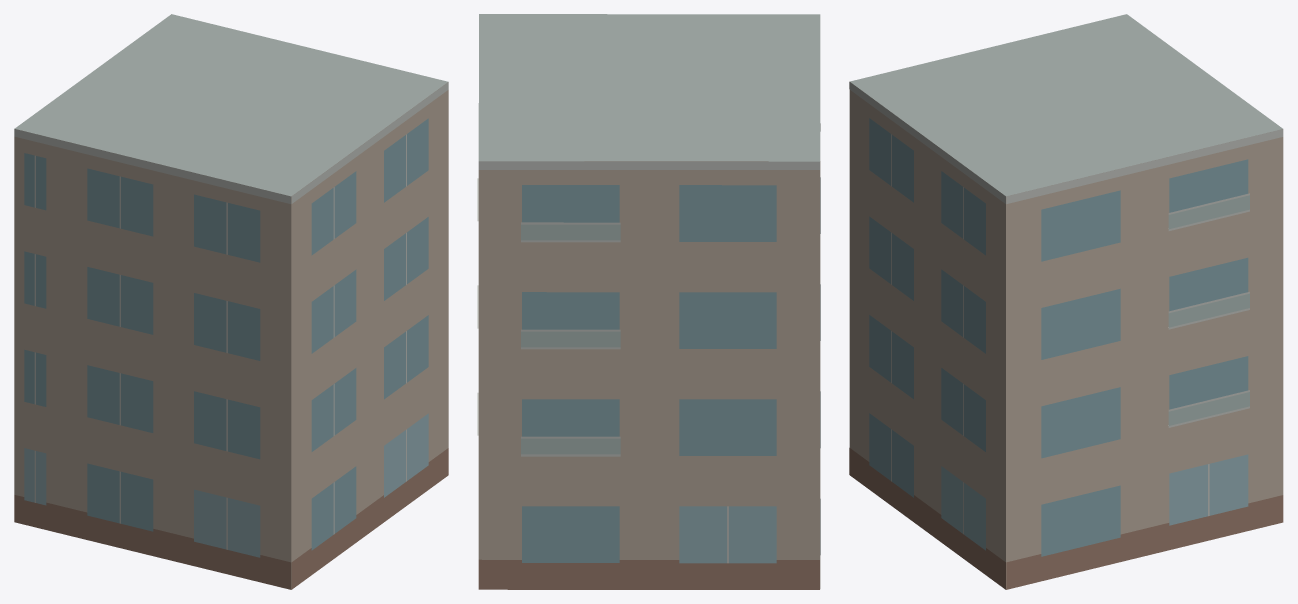
The model's file is residential-4be58dc1-8498-4aa6-a9bd-97a0ed2d02df.glb.
3 views of the same model, side by side, from view 1: azimuth 30°, elevation 25°; view 2: azimuth 150°, elevation 25°; view 3: azimuth 270°, elevation 25° (orthographic). The views are drawn at different scales.
Visible parts, largest first — view 1: residential-4be58dc1-8498-4aa6-a9bd-97a0ed2d02df.tmp; view 2: residential-4be58dc1-8498-4aa6-a9bd-97a0ed2d02df.tmp; view 3: residential-4be58dc1-8498-4aa6-a9bd-97a0ed2d02df.tmp.
Part boxes in pixels (x1,y1,x2,y2): residential-4be58dc1-8498-4aa6-a9bd-97a0ed2d02df.tmp: [14, 14, 448, 589]; residential-4be58dc1-8498-4aa6-a9bd-97a0ed2d02df.tmp: [477, 14, 820, 589]; residential-4be58dc1-8498-4aa6-a9bd-97a0ed2d02df.tmp: [849, 14, 1283, 589].
Size of the model in its own units: 12.14 by 12.2 by 12.2.
